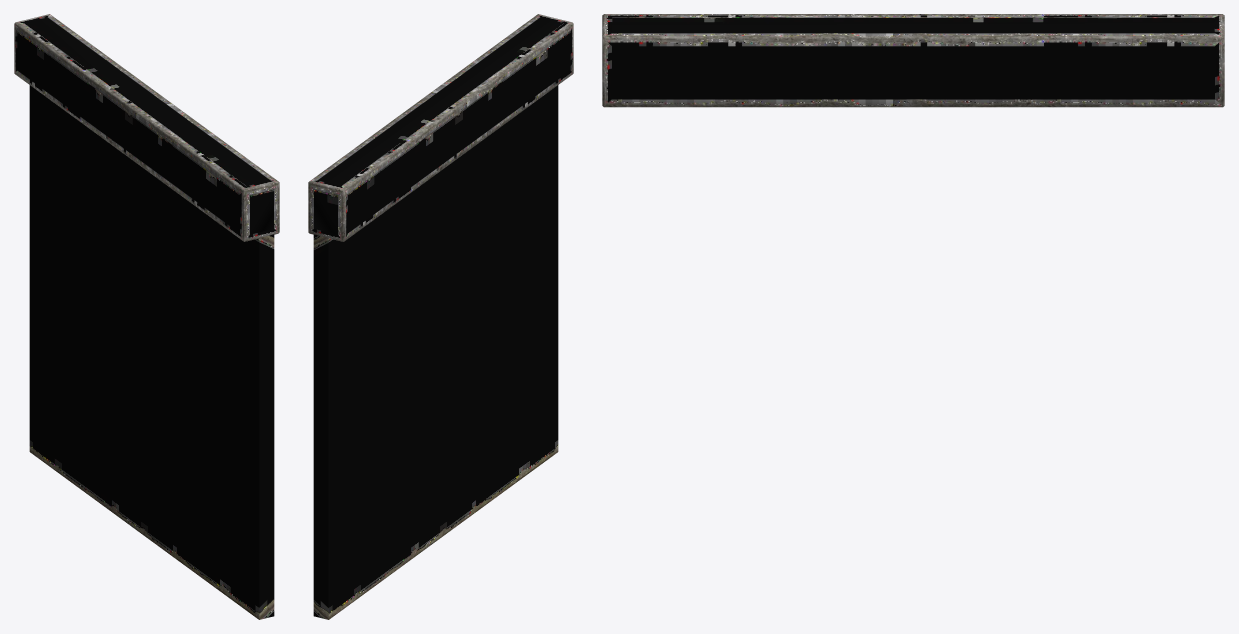
File: sewer_wall_600.glb
3 renders of one model, left to right at view 1: azimuth 30°, elevation 25°; view 2: azimuth 150°, elevation 25°; view 3: azimuth 270°, elevation 25°, orthographic. The views are drawn at different scales.
Parts seen in each view (by area): view 1: sewer_wall_600_LOD0; view 2: sewer_wall_600_LOD0; view 3: sewer_wall_600_LOD0.
Part boxes in pixels (left/top/right/bottom): sewer_wall_600_LOD0: left=14, top=14, right=279, bottom=619; sewer_wall_600_LOD0: left=308, top=14, right=573, bottom=619; sewer_wall_600_LOD0: left=602, top=14, right=1224, bottom=107.
Size of the model in its own units: 0.5519 by 6.25 by 6.01.
Materials: 2 (2 with a texture image).
